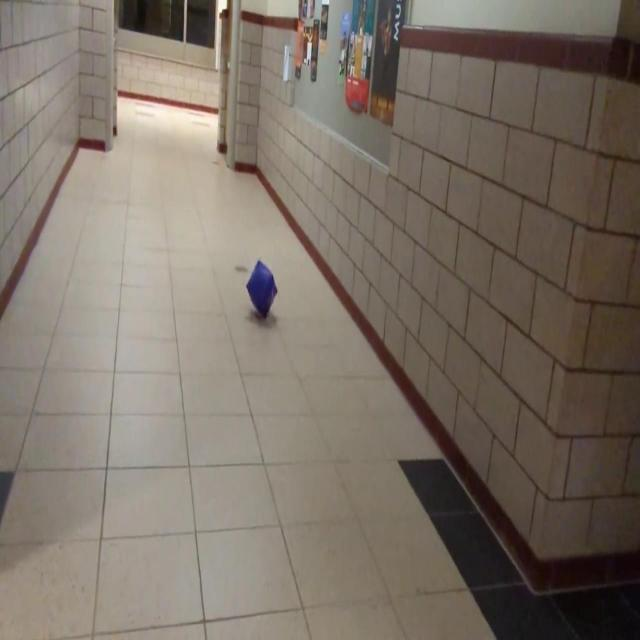frc_cube: (247, 261, 277, 314)
